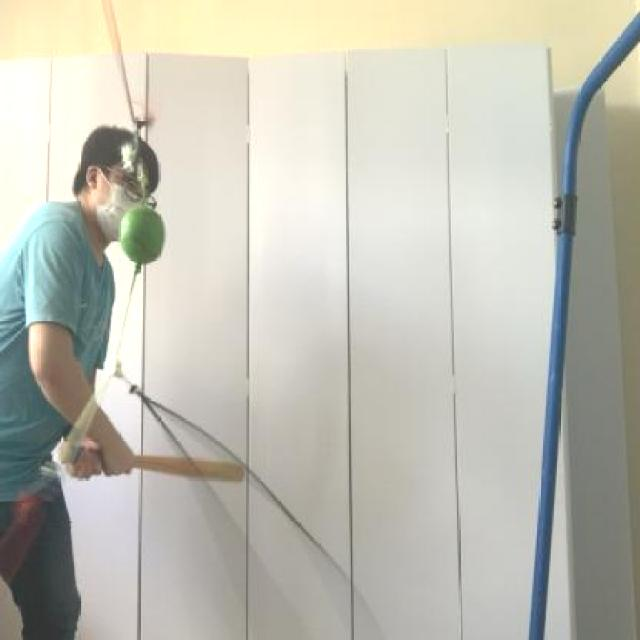baseball bat: (132, 450, 242, 486)
